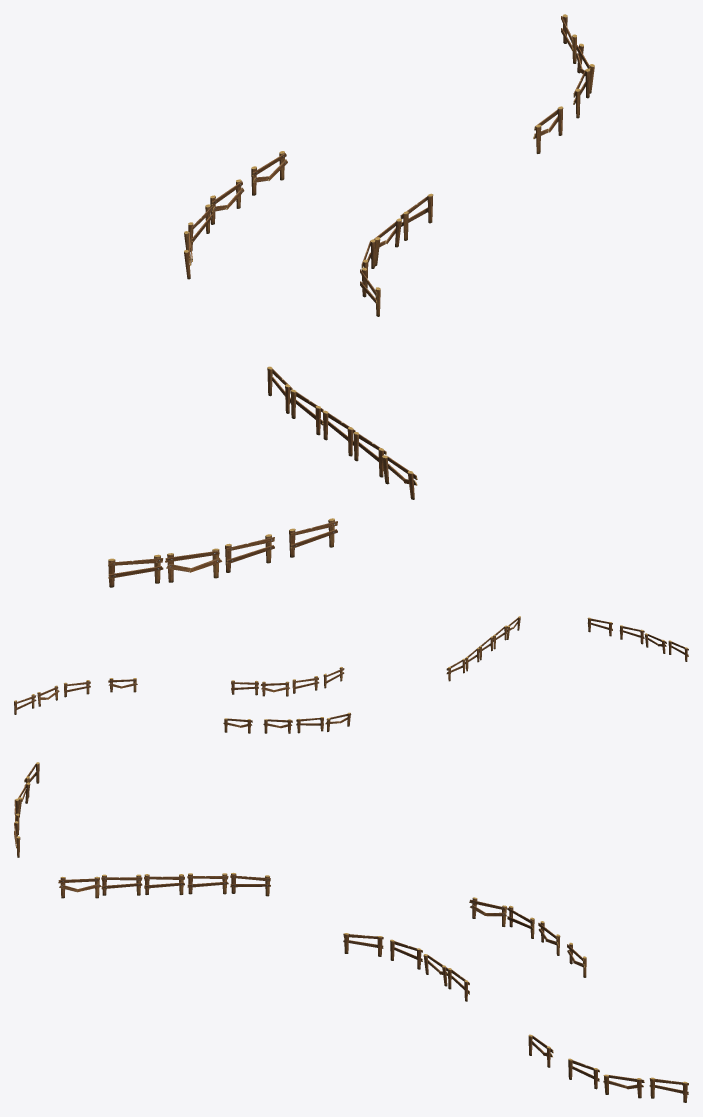
Rendered from Area_07_19.fbx.
3 renders of one model, top to bottom at view 1: azimuth 30°, elevation 25°; view 2: azimuth 150°, elevation 25°; view 3: azimuth 270°, elevation 25°, orthographic. The views are drawn at different scales.
Visible parts, largest first — view 1: Area_07_19; view 2: Area_07_19; view 3: Area_07_19.
Boxes of the visible parts, x1,y1,x2,y2 form: Area_07_19: (108, 14, 594, 587); Area_07_19: (14, 616, 688, 733); Area_07_19: (14, 762, 688, 1102).
Size of the model in its own units: 4834 by 159 by 4286.
